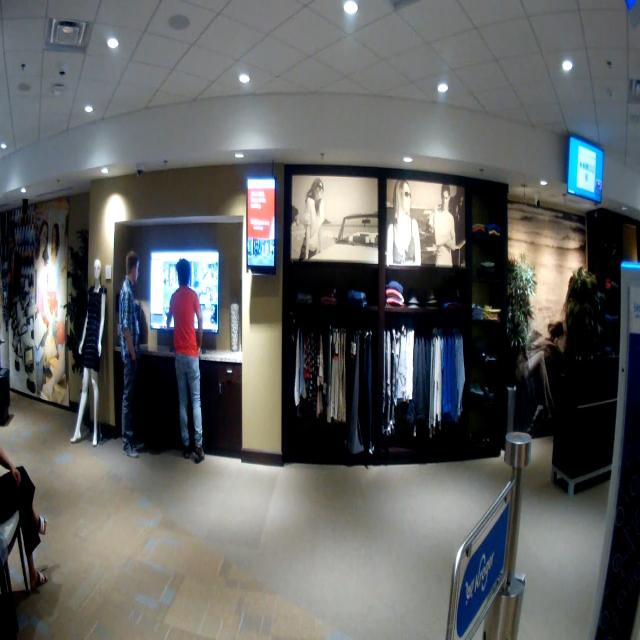normal: (165, 250, 217, 484), (114, 240, 154, 473)
